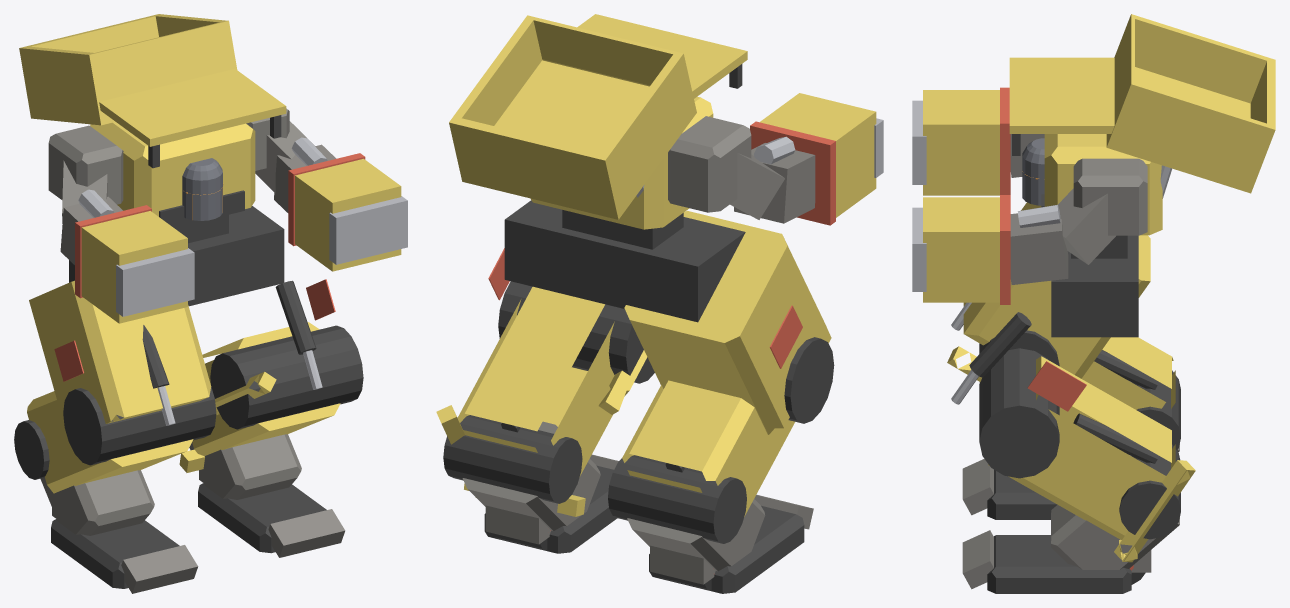
The model's file is mule.glb.
3 views of the same model, side by side, from view 1: azimuth 30°, elevation 25°; view 2: azimuth 150°, elevation 25°; view 3: azimuth 270°, elevation 25° (orthographic). The views are drawn at different scales.
Parts seen in each view (by area): view 1: bed, thigh-1, knee1, canopy_roof, torso, hips, knee-1, fist-1, fist1, meta-1, meta1, shin-1 (+27 smaller); view 2: bed, thigh-1, shin1, hips, shin-1, hock-1, hock1, shoulder-1, fist-1, canopy_roof, knee1, foot-1_sole (+15 smaller); view 3: bed, shin1, canopy_roof, fist-1, fist1, knee1, hips, thigh-1, foot1_sole, shoulder1, torso, shin-1 (+21 smaller).
Boxes of the visible parts, x1=… form: bed: x1=19, y1=14, x2=237, y2=125; thigh-1: x1=29, y1=280, x2=211, y2=426; knee1: x1=210, y1=325, x2=363, y2=429; canopy_roof: x1=99, y1=69, x2=286, y2=146; torso: x1=90, y1=122, x2=255, y2=216; hips: x1=69, y1=206, x2=284, y2=306; knee-1: x1=63, y1=387, x2=216, y2=465; fist-1: x1=81, y1=211, x2=187, y2=323; fist1: x1=295, y1=158, x2=401, y2=271; meta-1: x1=40, y1=470, x2=154, y2=535; meta1: x1=189, y1=434, x2=301, y2=499; shin-1: x1=27, y1=391, x2=193, y2=493; bed: x1=449, y1=15, x2=696, y2=219; thigh-1: x1=624, y1=210, x2=831, y2=434; shin1: x1=436, y1=286, x2=614, y2=516; hips: x1=504, y1=200, x2=745, y2=322; shin-1: x1=622, y1=380, x2=794, y2=516; hock-1: x1=608, y1=455, x2=746, y2=543; hock1: x1=443, y1=415, x2=582, y2=503; shoulder-1: x1=668, y1=116, x2=751, y2=212; fist-1: x1=760, y1=93, x2=876, y2=217; canopy_roof: x1=542, y1=14, x2=747, y2=98; knee1: x1=498, y1=281, x2=654, y2=383; foot-1_sole: x1=649, y1=505, x2=804, y2=593; bed: x1=1106, y1=14, x2=1275, y2=193; shin1: x1=988, y1=356, x2=1195, y2=562; canopy_roof: x1=1009, y1=57, x2=1114, y2=133; fist-1: x1=923, y1=90, x2=999, y2=195; fist1: x1=923, y1=197, x2=999, y2=302; knee1: x1=979, y1=348, x2=1059, y2=478; hips: x1=1051, y1=235, x2=1138, y2=337; thigh-1: x1=963, y1=202, x2=1150, y2=378; foot1_sole: x1=987, y1=535, x2=1131, y2=593; shoulder1: x1=1073, y1=158, x2=1147, y2=235; torso: x1=1044, y1=134, x2=1162, y2=235; shin-1: x1=1081, y1=337, x2=1175, y2=409.
Bounding box in the file's own units: 15.5 × 24.71 × 16.61.
